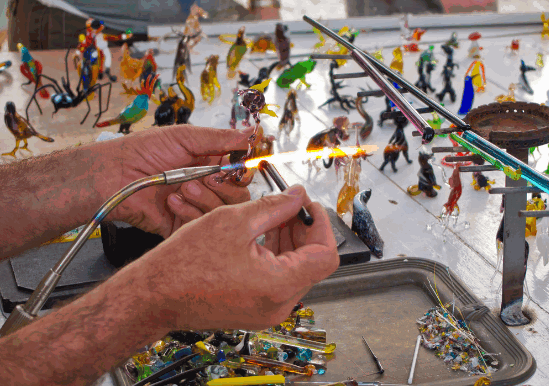Fire: (228, 142, 392, 171)
